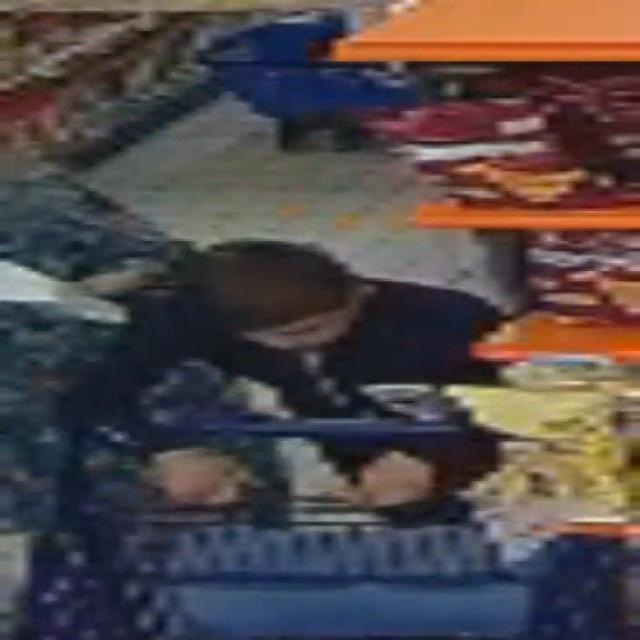hands: (147, 449, 250, 507), (336, 452, 435, 508)
person: (62, 241, 500, 428)
